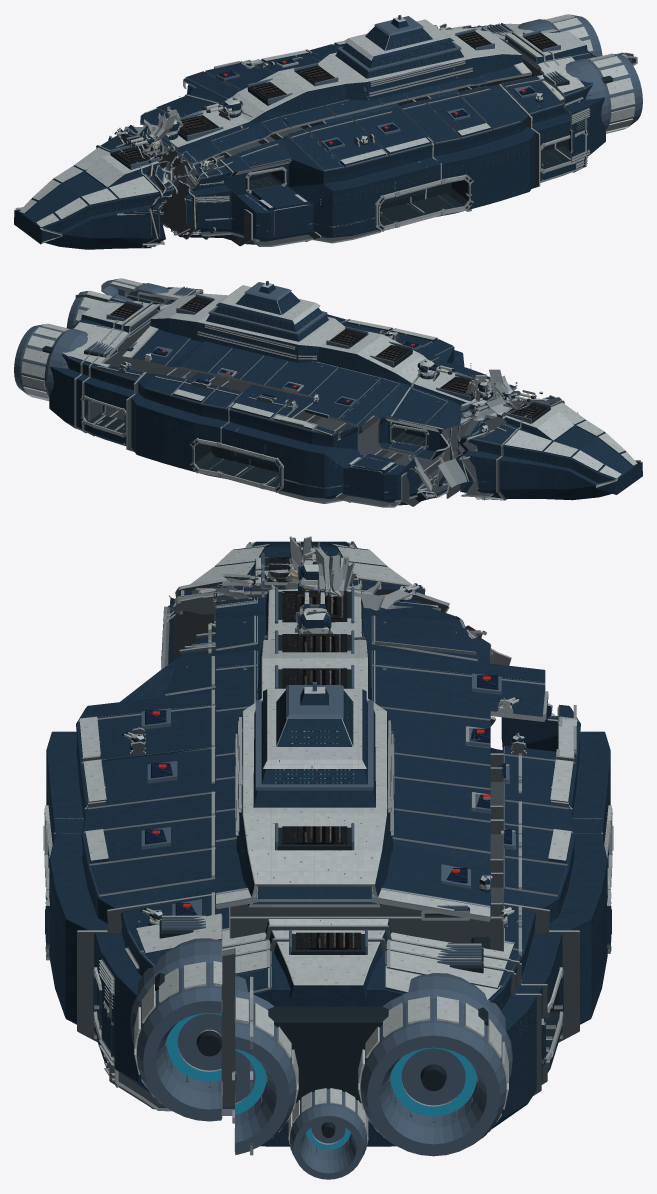
Rendered from concord-carrier-wreck-v4.glb.
3 renders of one model, top to bottom at view 1: azimuth 30°, elevation 25°; view 2: azimuth 150°, elevation 25°; view 3: azimuth 270°, elevation 25°, orthographic. The views are drawn at different scales.
Parts seen in each view (by area): view 1: Carrier wreck flight deck, Carrier wreck bow, Carrier wreck ejected structure 2, Carrier wreck detached engine pod, Carrier wreck command island, Carrier wreck ejected structure 1, Carrier wreck ejected structure 4, Carrier wreck ejected structure 3; view 2: Carrier wreck flight deck, Carrier wreck bow, Carrier wreck ejected structure 2, Carrier wreck ejected structure 1, Carrier wreck command island, Carrier wreck ejected structure 4, Carrier wreck ejected structure 3, Carrier wreck detached engine pod; view 3: Carrier wreck flight deck, Carrier wreck ejected structure 4, Carrier wreck ejected structure 2, Carrier wreck detached engine pod, Carrier wreck command island, Carrier wreck ejected structure 3, Carrier wreck bow, Carrier wreck ejected structure 1.
Boxes of the visible parts, left/top/right/bottom form: Carrier wreck flight deck: left=117, top=14, right=637, bottom=246; Carrier wreck bow: left=14, top=112, right=177, bottom=249; Carrier wreck ejected structure 2: left=179, top=59, right=383, bottom=137; Carrier wreck detached engine pod: left=540, top=53, right=642, bottom=164; Carrier wreck command island: left=329, top=15, right=469, bottom=83; Carrier wreck ejected structure 1: left=127, top=98, right=267, bottom=166; Carrier wreck ejected structure 4: left=434, top=25, right=531, bottom=85; Carrier wreck ejected structure 3: left=289, top=50, right=472, bottom=105; Carrier wreck flight deck: left=14, top=290, right=490, bottom=507; Carrier wreck bow: left=437, top=369, right=642, bottom=500; Carrier wreck ejected structure 2: left=284, top=319, right=443, bottom=451; Carrier wreck ejected structure 1: left=389, top=361, right=517, bottom=486; Carrier wreck command island: left=201, top=281, right=334, bottom=346; Carrier wreck ejected structure 4: left=122, top=293, right=228, bottom=372; Carrier wreck ejected structure 3: left=199, top=327, right=323, bottom=391; Carrier wreck detached engine pod: left=101, top=278, right=203, bottom=378; Carrier wreck flight deck: left=43, top=547, right=613, bottom=1179; Carrier wreck ejected structure 4: left=215, top=788, right=492, bottom=949; Carrier wreck ejected structure 2: left=215, top=608, right=548, bottom=756; Carrier wreck detached engine pod: left=98, top=913, right=222, bottom=1121; Carrier wreck command island: left=243, top=682, right=385, bottom=810; Carrier wreck ejected structure 3: left=215, top=704, right=490, bottom=844; Carrier wreck bow: left=161, top=536, right=511, bottom=669; Carrier wreck ejected structure 1: left=213, top=546, right=492, bottom=663.
Size of the model in its own units: 2.39 by 0.6599 by 1.04.
Materials: 12 (5 with a texture image).
